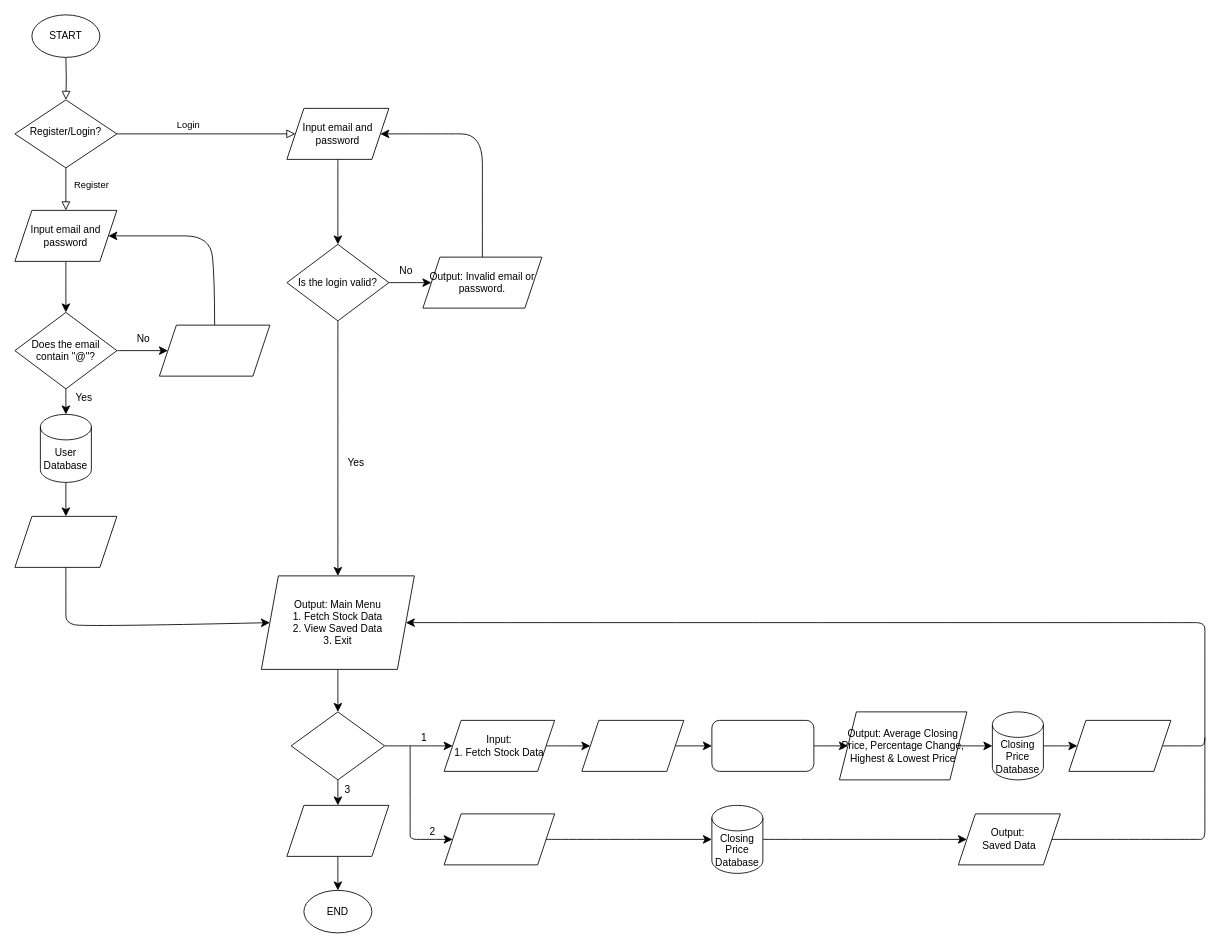
The diagram is 1220 pixels wide and 948 high, and some of its shapes have lost their labels. The centre of each missing label's shape, as x and y in pixels:
"Analyze data" goes at pixel 762 745.
"Data saved successfully!" goes at pixel 1119 745.
"Input: 2. View Saved Data" goes at pixel 499 839.
"Input: 3. Exit" goes at pixel 337 830.
"Input: Ticker, Start Date, End Date" goes at pixel 632 745.
"Output: Invalid email. Please enter a valid email address." goes at pixel 214 350.
"Output: User registered successfully!" goes at pixel 65 541.
"User's choice" goes at pixel 337 745.
